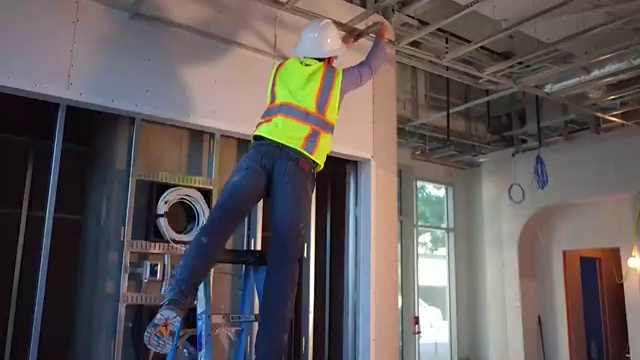helmet: (290, 18, 355, 62)
jacket: (252, 56, 346, 177)
